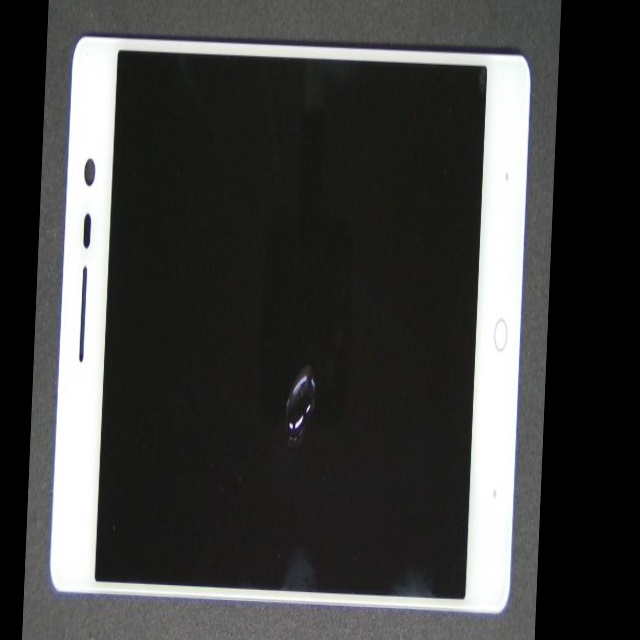oil: (168, 126, 440, 609)
